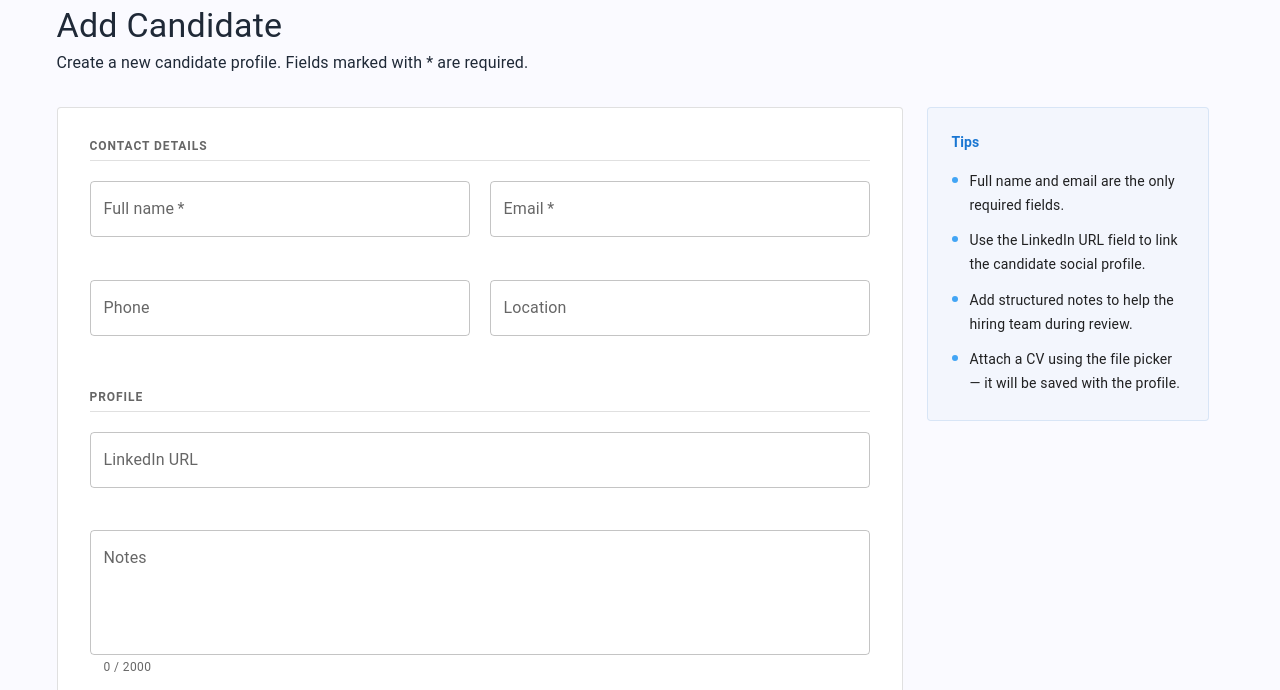
Test: renders server field errors from a mocked 400
Type "Ada Lovelace" into the field labelled "Full name *" at (280, 209), box top-left (90, 181), bottom-right (470, 237)
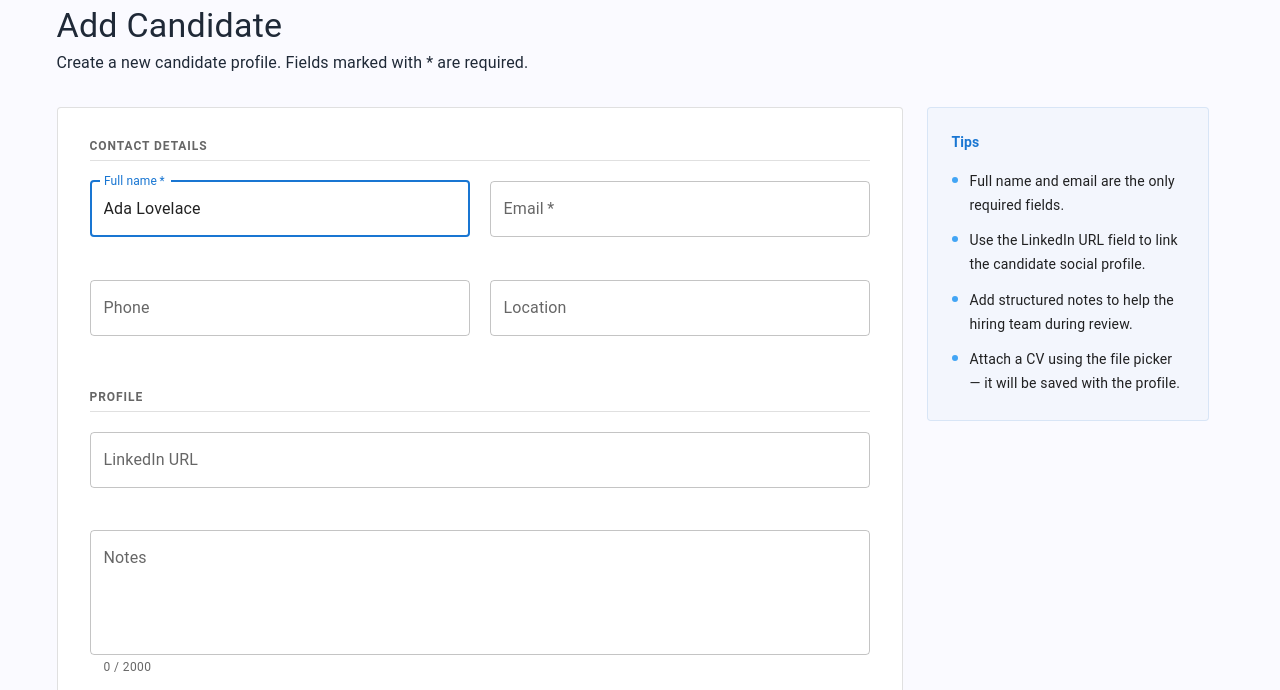
Type "ada@example.com" into the field labelled "Email *" at (680, 209), box top-left (490, 181), bottom-right (870, 237)
(page scrolled)
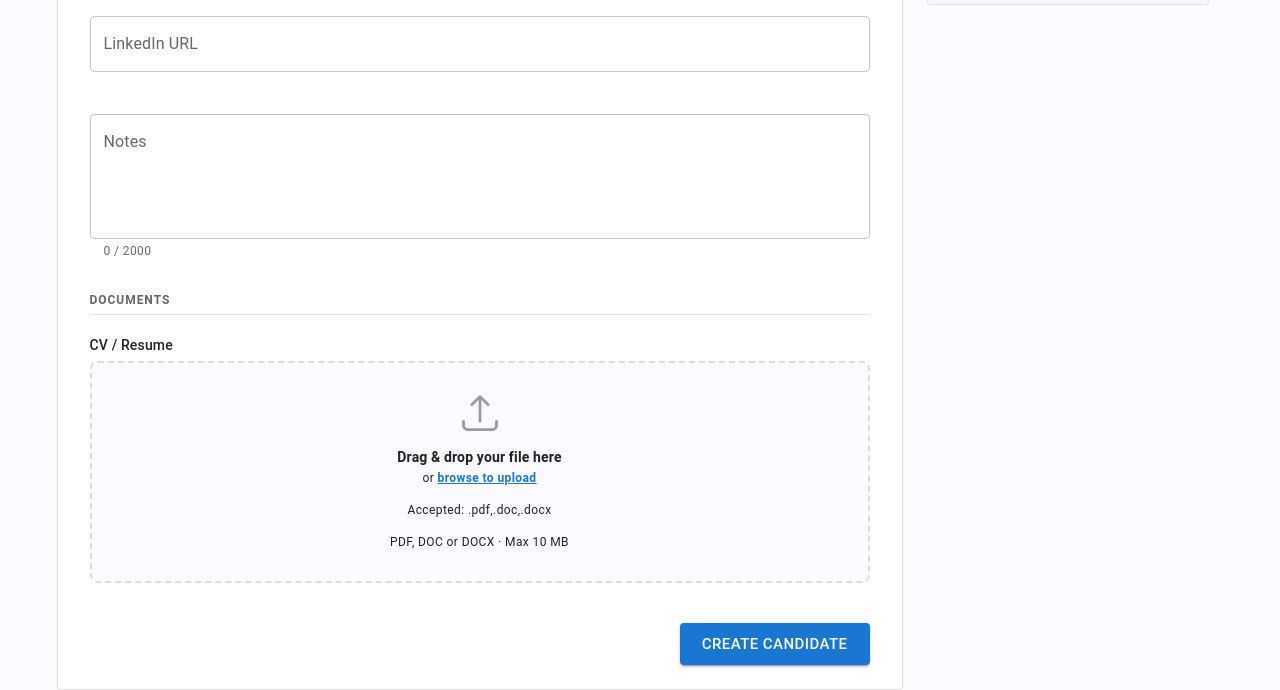
Click the button "Create candidate" at (775, 644), box top-left (680, 623), bottom-right (870, 665)
(page scrolled)
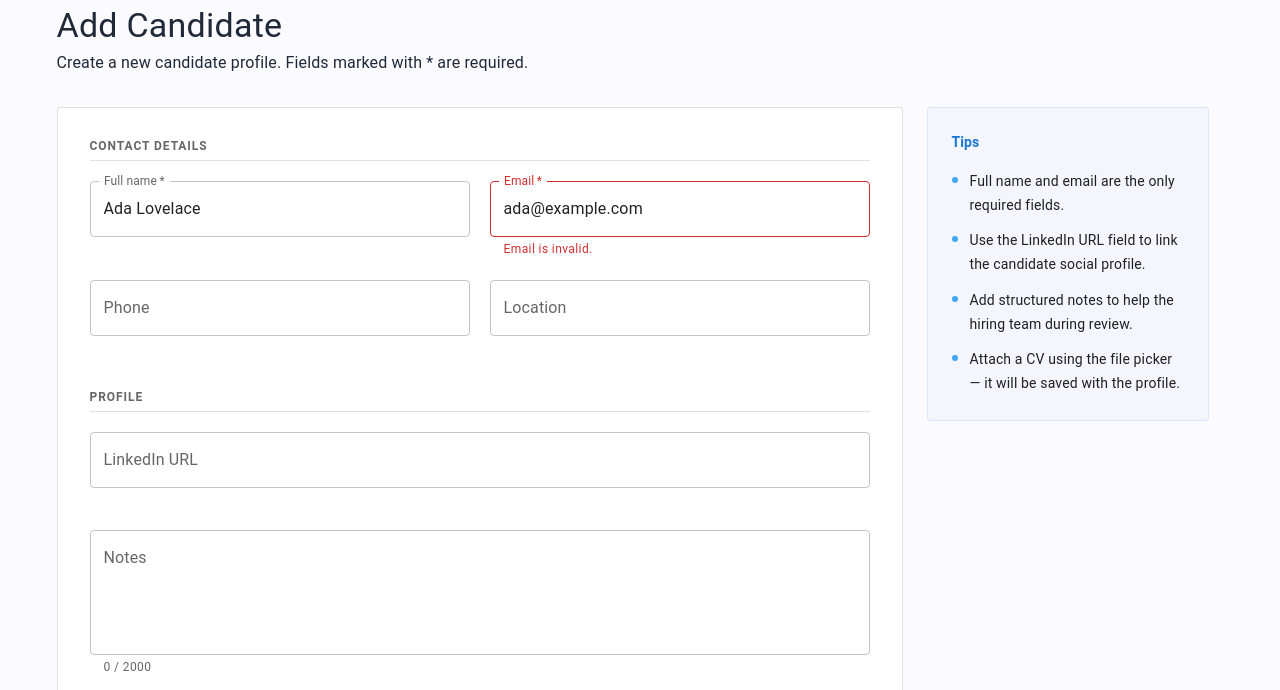
Now the text "Email is invalid." is shown, box top-left (504, 242), bottom-right (593, 256)
